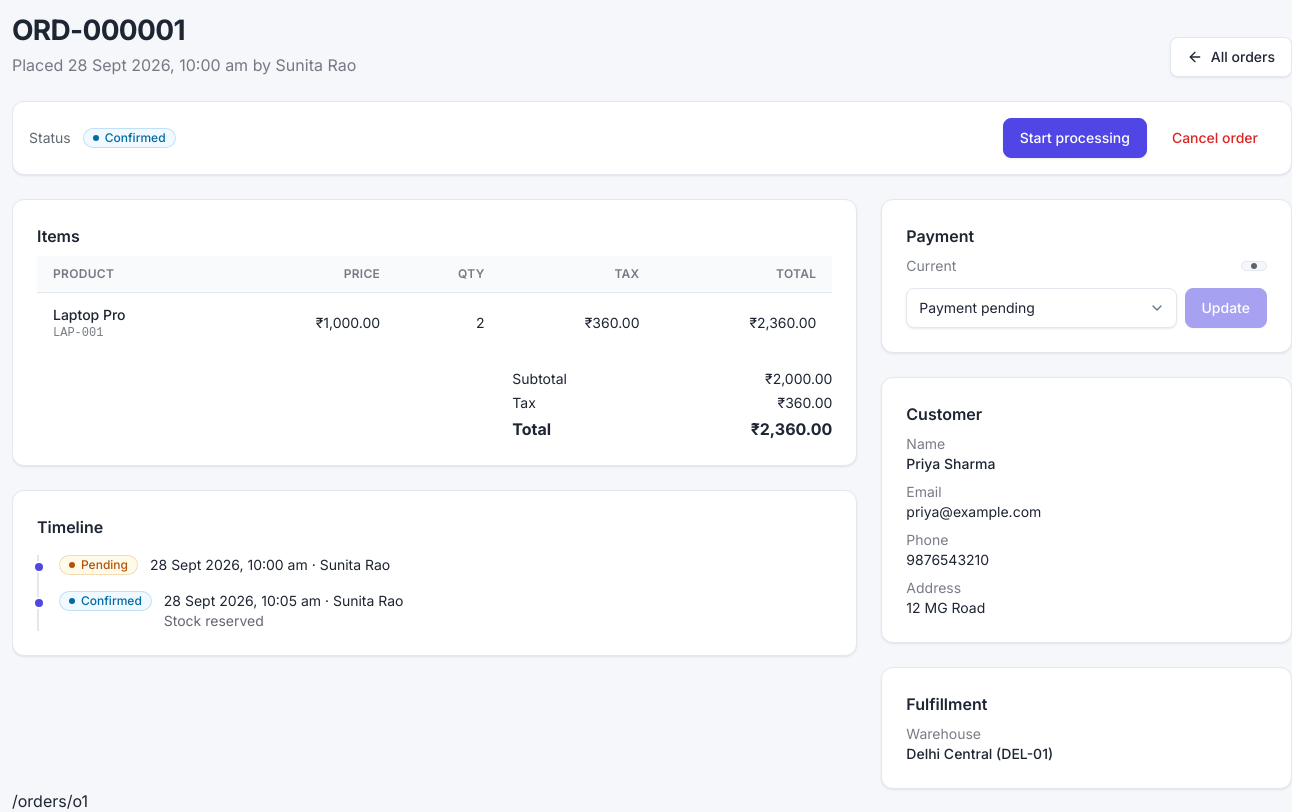
Test: OrderDetailPage › processing / packing / delivering run straight away with the right status
Click the button with aria-label "Start processing ORD-000001" at {"x": 1075, "y": 138}, box left=1003, top=118, right=1147, bottom=158
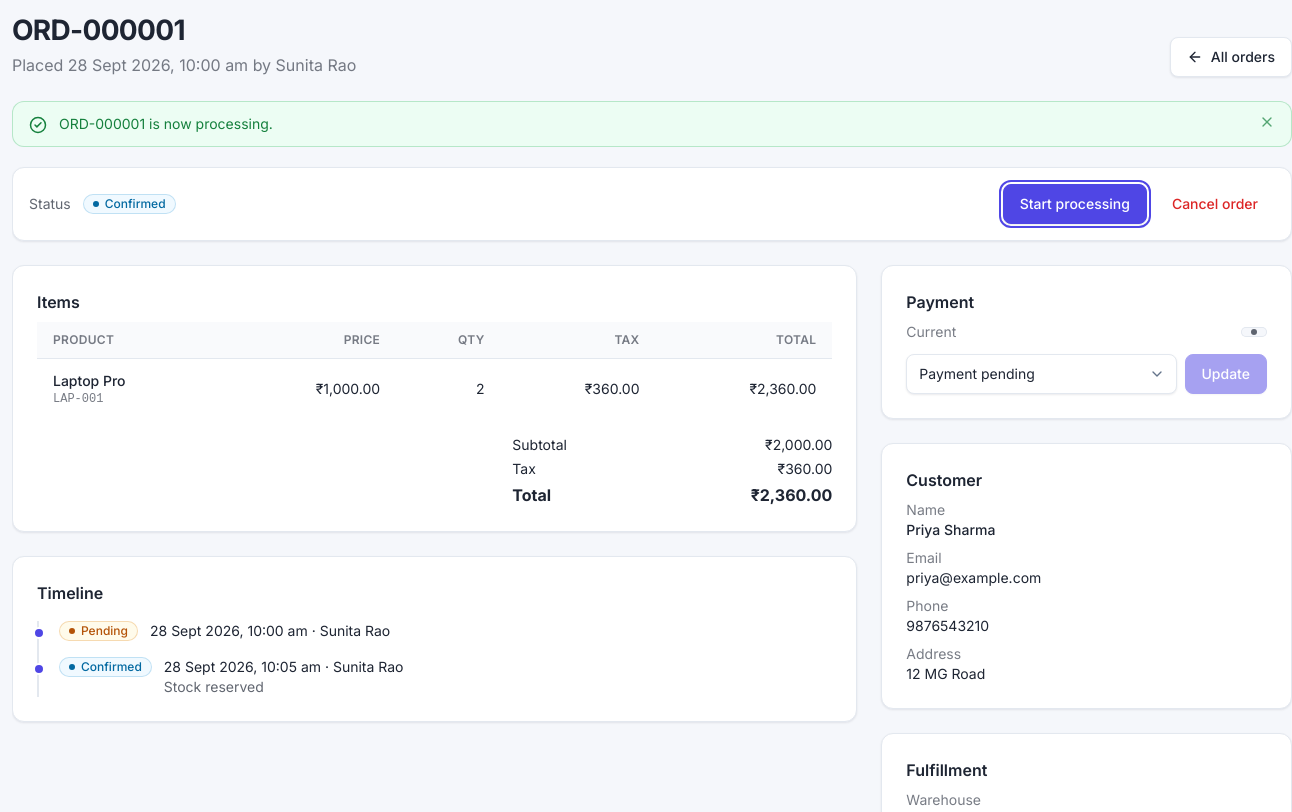
Check: the text "ORD-000001 is now processing." is shown, box left=59, top=115, right=273, bottom=132
